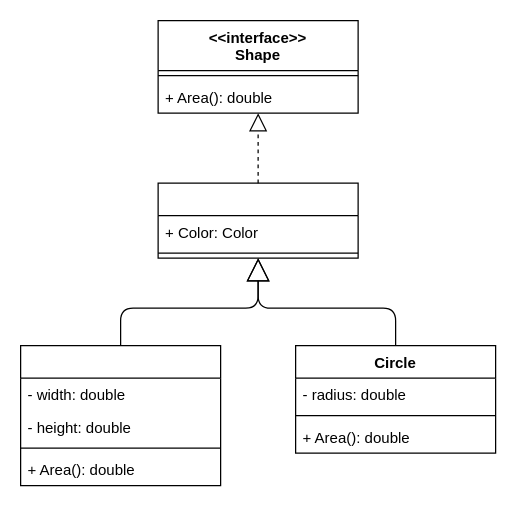
Image size: 516x506. Some labels were removed from this diagram. Here are the shapes that lost their labels. From the top down, the box of each, then its label:
(157, 182, 358, 258): Shape
(19, 344, 221, 486): Rect
